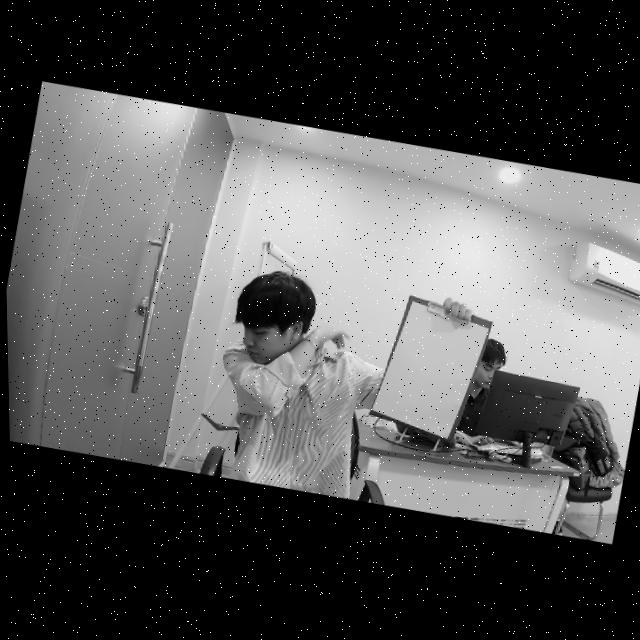face: (227, 264, 323, 378)
